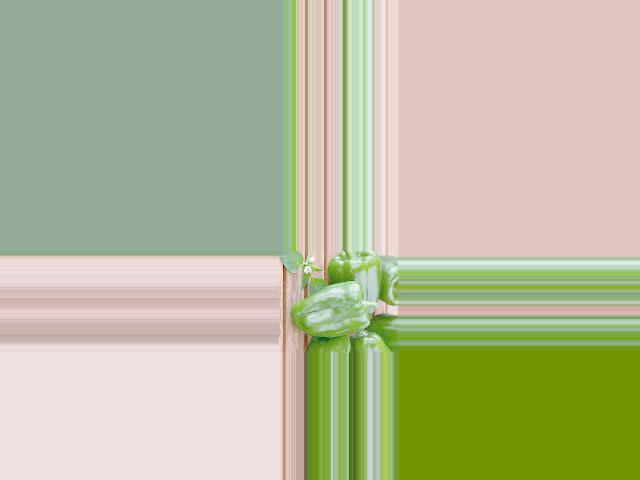bell_pepper: (357, 328, 394, 354)
